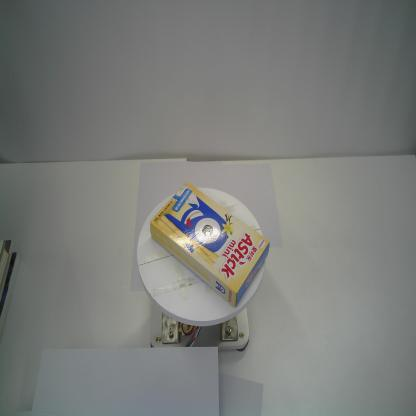Dessert: (149, 180, 271, 308)
